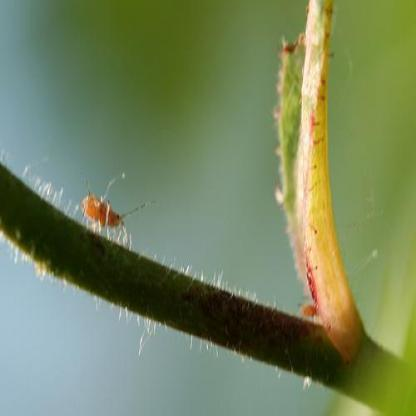aphid: (78, 172, 141, 254), (294, 292, 321, 325)
